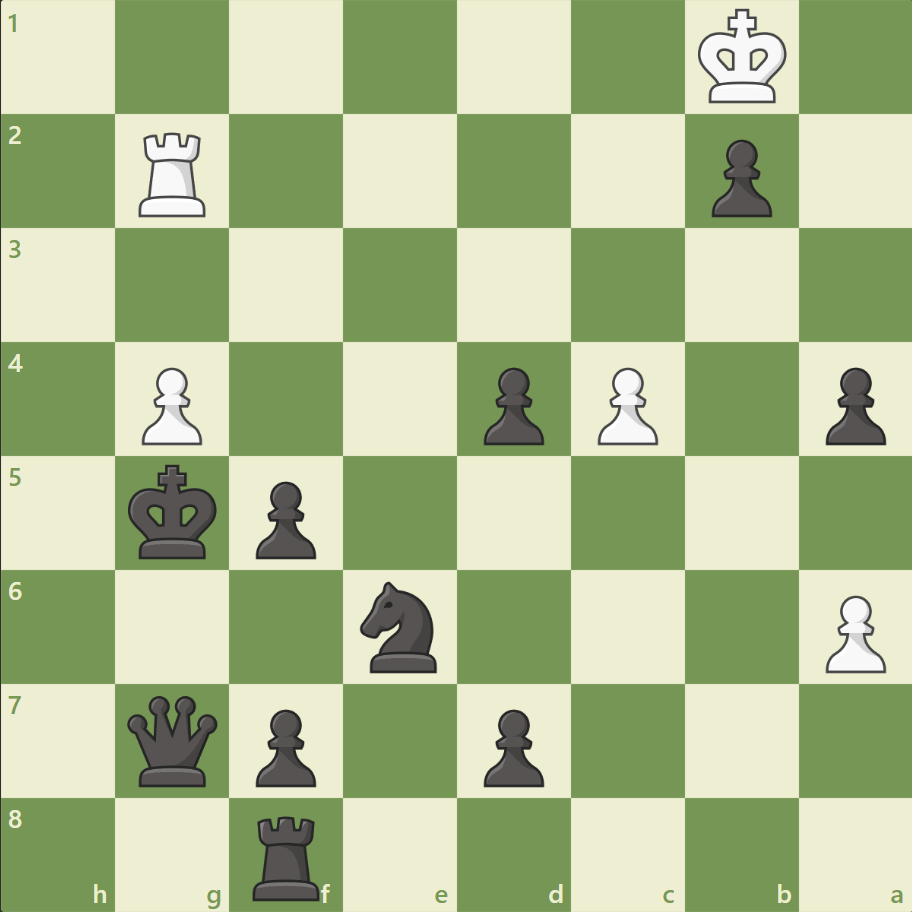K: (692, 4, 792, 112)
P: (133, 359, 208, 450), (815, 586, 889, 677), (588, 359, 662, 450)
R: (133, 125, 215, 222)
k: (124, 458, 224, 566)
n: (351, 575, 449, 677)
p: (474, 700, 549, 791), (247, 700, 322, 791), (247, 473, 322, 564), (474, 359, 549, 450), (701, 132, 776, 223), (815, 359, 889, 450)
q: (124, 690, 223, 789)
r: (246, 806, 329, 904)
